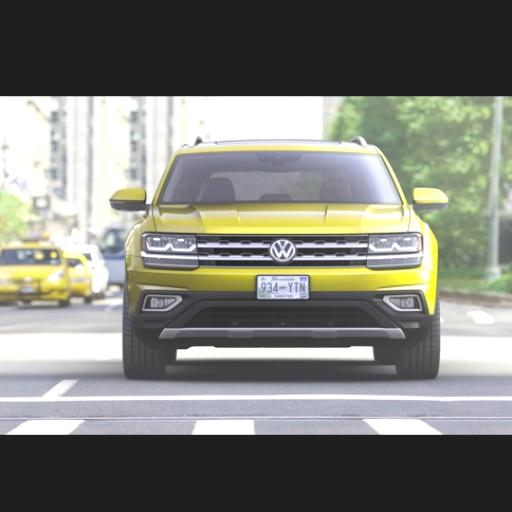hatchback: (62, 242, 107, 298)
sedan: (0, 241, 70, 306), (63, 252, 91, 303)
suv: (108, 135, 445, 376)
truck: (97, 224, 127, 286)
